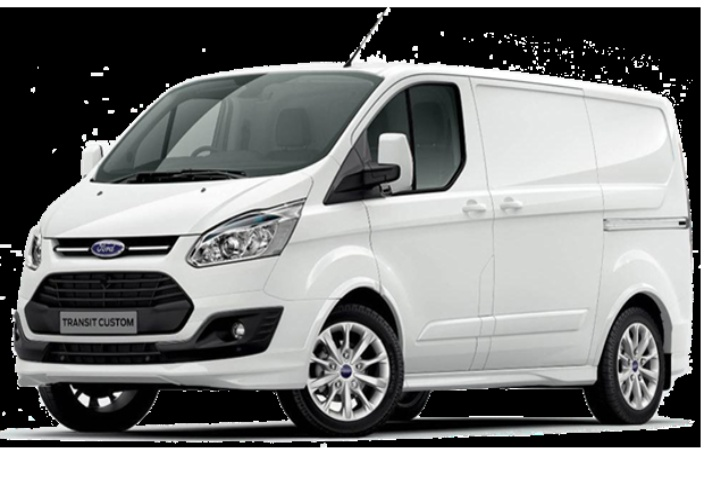van: (10, 46, 696, 442)
